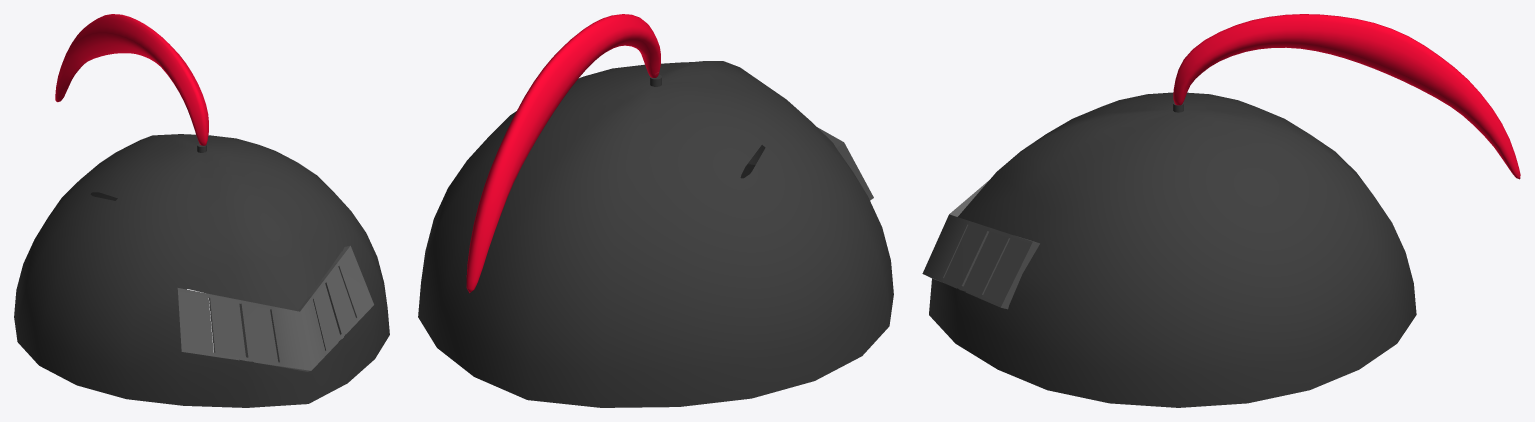
File: yoroi.fbx
The picture shows the model from 3 angles, left to right: view 1: azimuth 30°, elevation 25°; view 2: azimuth 150°, elevation 25°; view 3: azimuth 270°, elevation 25°; orthographic projection. The views are drawn at different scales.
Parts seen in each view (by area): view 1: pSphere1, pPlane1, pCube1; view 2: pSphere1, pCube1, pPlane1; view 3: pSphere1, pCube1, pPlane1.
Boxes of the visible parts, x1,y1,x2,y2 form: pSphere1: (14, 134, 389, 407); pPlane1: (177, 245, 373, 371); pCube1: (55, 14, 208, 145); pSphere1: (418, 61, 893, 407); pCube1: (466, 14, 660, 292); pPlane1: (748, 127, 873, 200); pSphere1: (929, 92, 1416, 407); pCube1: (1173, 14, 1520, 179); pPlane1: (922, 180, 1039, 309).
Size of the model in its own units: 8.25 by 6.23 by 11.21.
2 materials, 2 textured.
